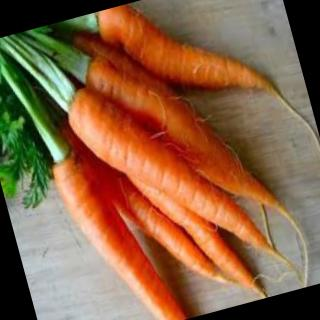Wortel: (62, 51, 271, 292), (87, 47, 300, 230), (46, 132, 187, 320), (92, 1, 283, 137)
